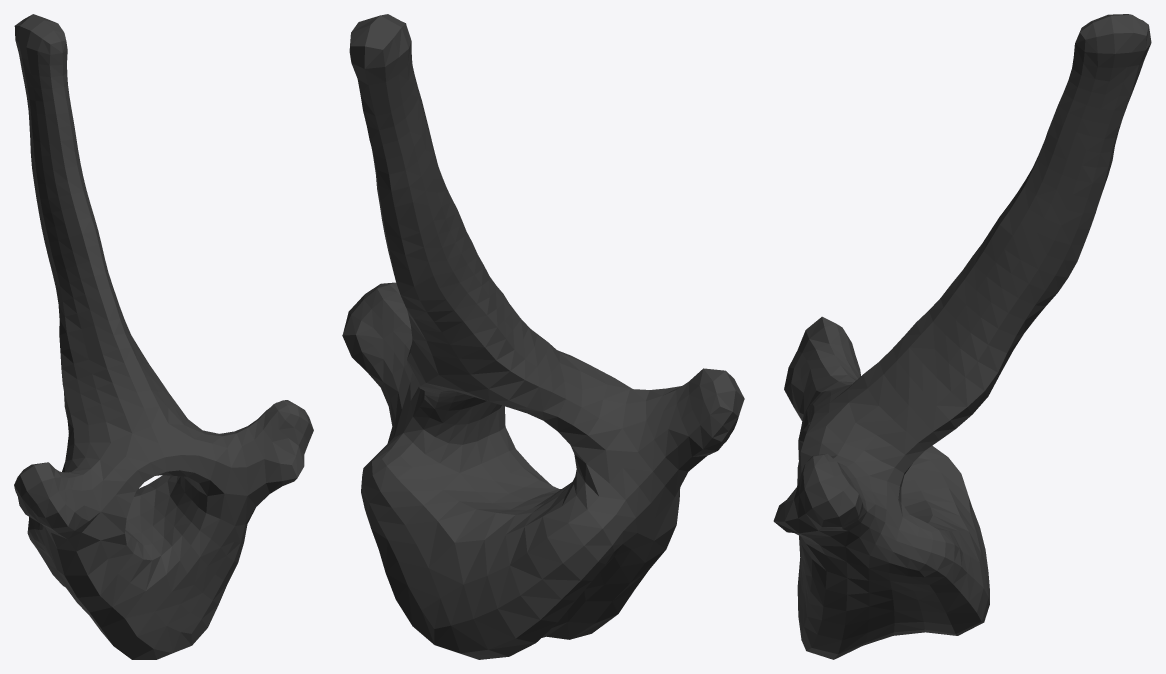
3 views of the same model, side by side, from view 1: azimuth 30°, elevation 25°; view 2: azimuth 150°, elevation 25°; view 3: azimuth 270°, elevation 25° (orthographic). The views are drawn at different scales.
Visible parts, largest first — view 1: T7; view 2: T7; view 3: T7.
Part boxes in pixels (x1,y1,x2,y2): T7: [14, 14, 313, 659]; T7: [342, 14, 744, 659]; T7: [773, 14, 1151, 659].
Bounding box in the file's own units: 2.21 × 4 × 2.13.
1 material, 1 textured.
